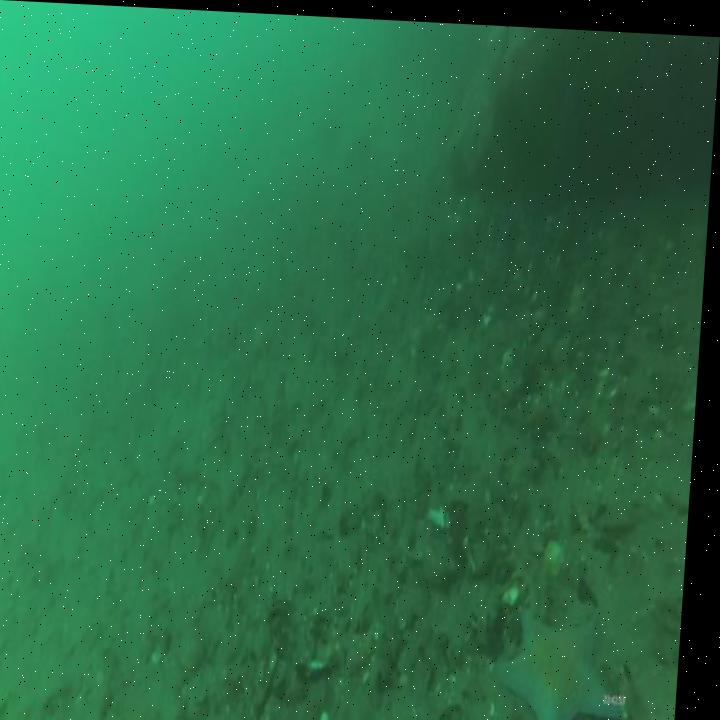starfish: (495, 589, 644, 720), (207, 386, 246, 461)
